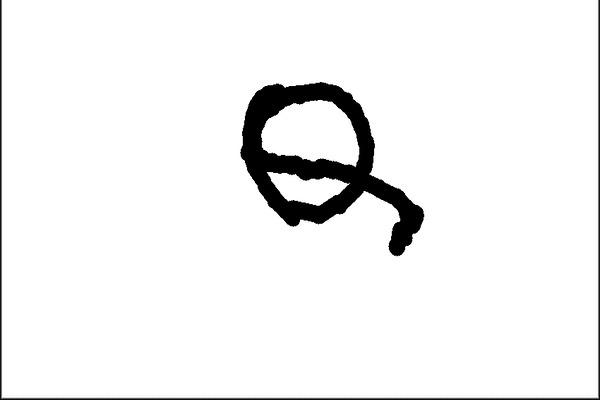Q: (225, 72, 432, 259)
